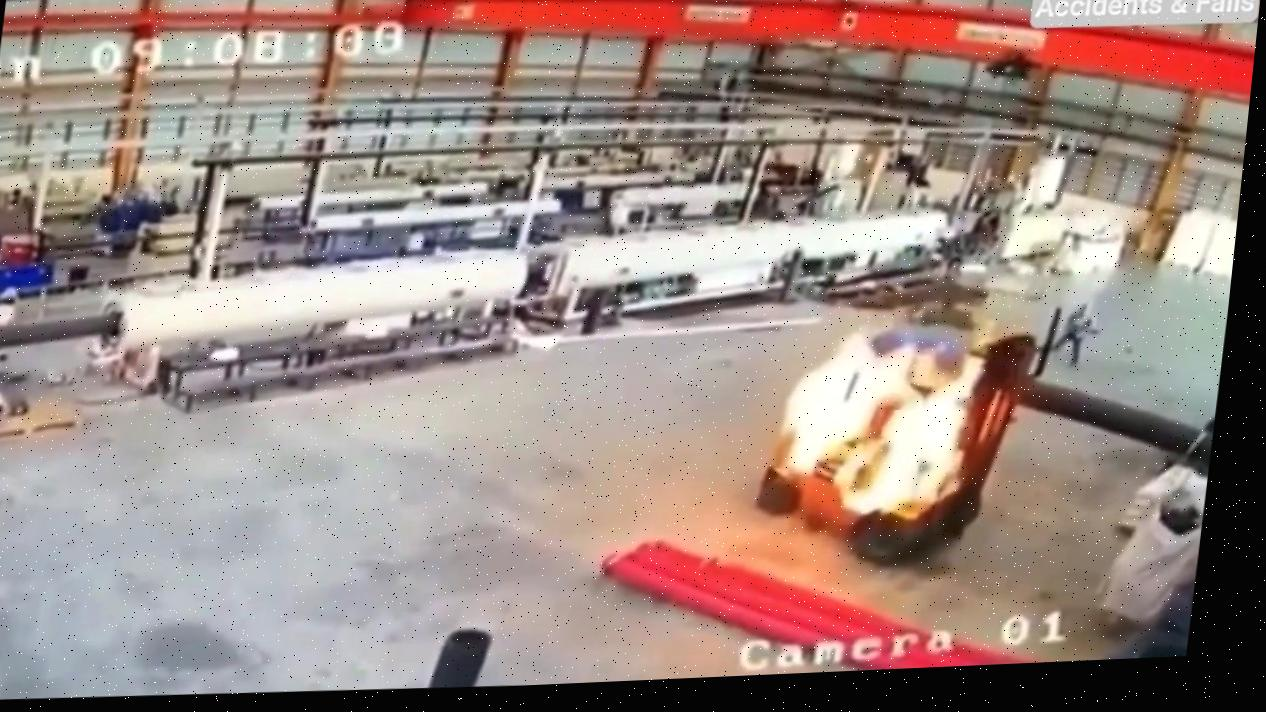fire: (720, 196, 1103, 571)
